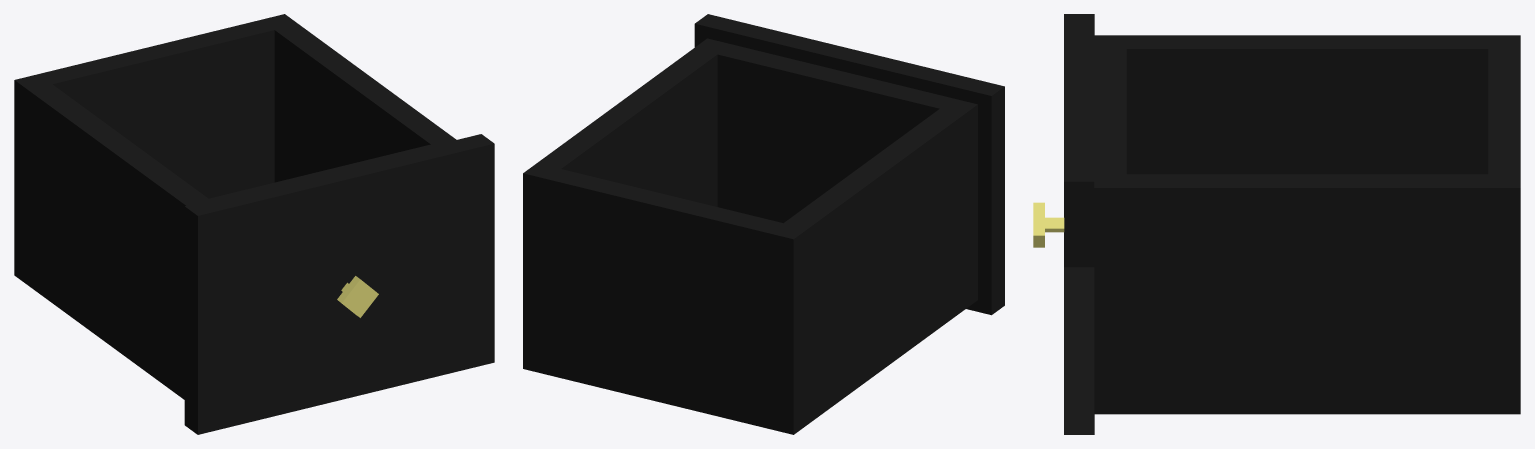
File: Itr_Wardrobe2_Drawer_Small_03.FBX
The picture shows the model from 3 angles, left to right: view 1: azimuth 30°, elevation 25°; view 2: azimuth 150°, elevation 25°; view 3: azimuth 270°, elevation 25°; orthographic projection. The views are drawn at different scales.
Visible parts, largest first — view 1: Itr_Wardrobe2_Drawer_Small_03; view 2: Itr_Wardrobe2_Drawer_Small_03; view 3: Itr_Wardrobe2_Drawer_Small_03.
Part boxes in pixels (box(x1,y1,x2,y2)): Itr_Wardrobe2_Drawer_Small_03: box(14, 14, 494, 434); Itr_Wardrobe2_Drawer_Small_03: box(523, 14, 1004, 434); Itr_Wardrobe2_Drawer_Small_03: box(1033, 14, 1520, 434).
Size of the model in its own units: 18.79 by 13.26 by 23.09.
